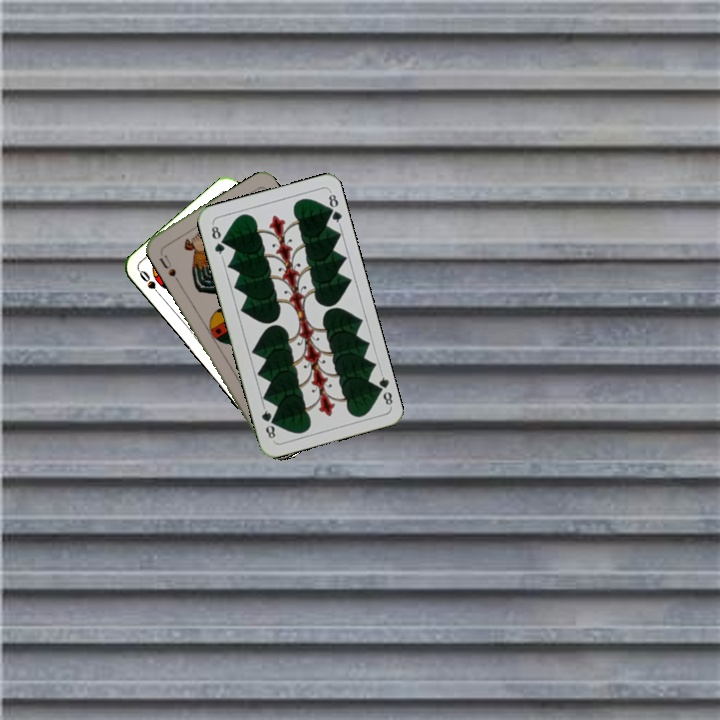G8: (371, 369, 395, 409), (207, 220, 227, 260)
SO: (135, 266, 165, 301)
SU: (155, 246, 181, 284)
